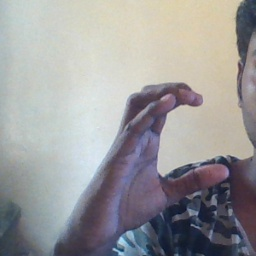C: (108, 75, 234, 209)
